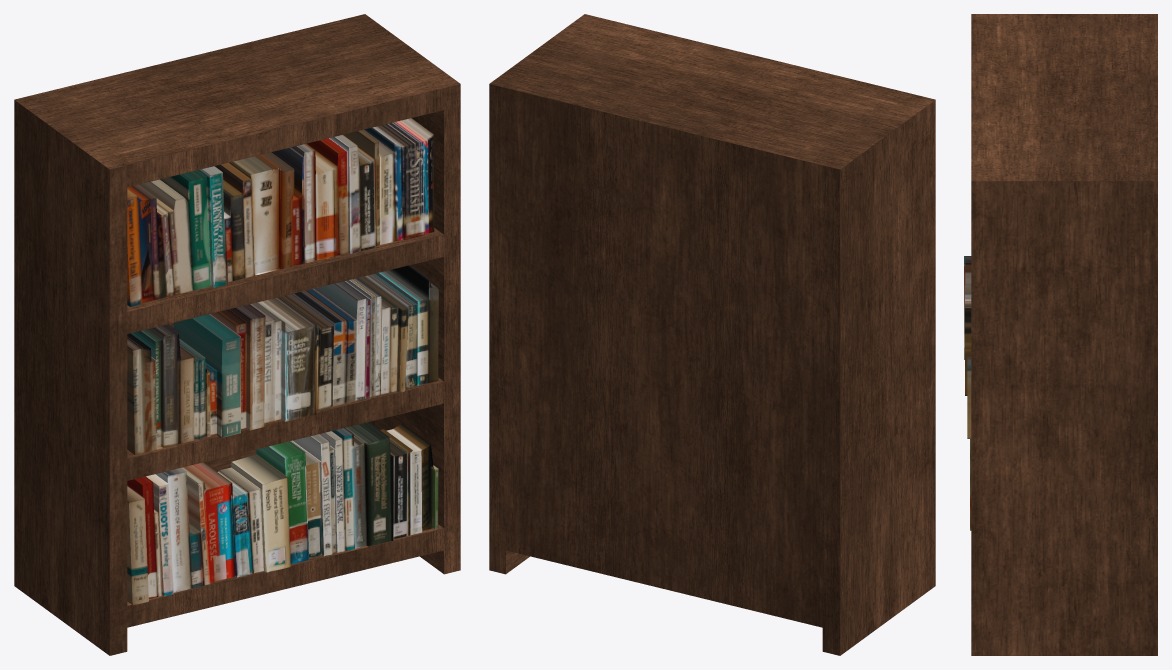
The model's file is bookshelf real.glb.
The picture shows the model from 3 angles, left to right: view 1: azimuth 30°, elevation 25°; view 2: azimuth 150°, elevation 25°; view 3: azimuth 270°, elevation 25°; orthographic projection. The views are drawn at different scales.
Visible parts, largest first — view 1: Shelf, Row 2, Row 1, Row 3; view 2: Shelf; view 3: Shelf, Row 2.
Boxes of the visible parts, x1,y1,x2,y2 form: Shelf: (14,14,460,655); Row 2: (127,265,439,454); Row 1: (127,422,438,605); Row 3: (127,118,434,306); Shelf: (489,14,935,655); Shelf: (971,14,1157,655); Row 2: (964,256,971,438).
Size of the model in its own units: 1.8 by 2.38 by 0.8794.
2 materials, 2 textured.
